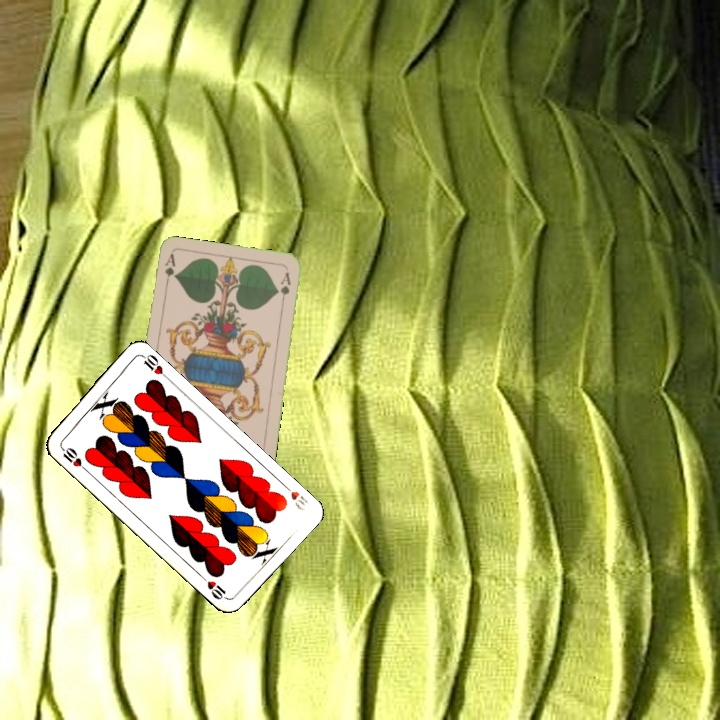GA: (160, 250, 177, 291)
H10: (278, 479, 310, 513), (56, 442, 89, 474)
